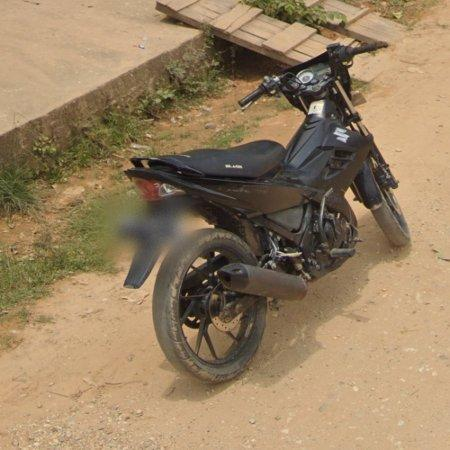motorcycles: (125, 44, 411, 383)
